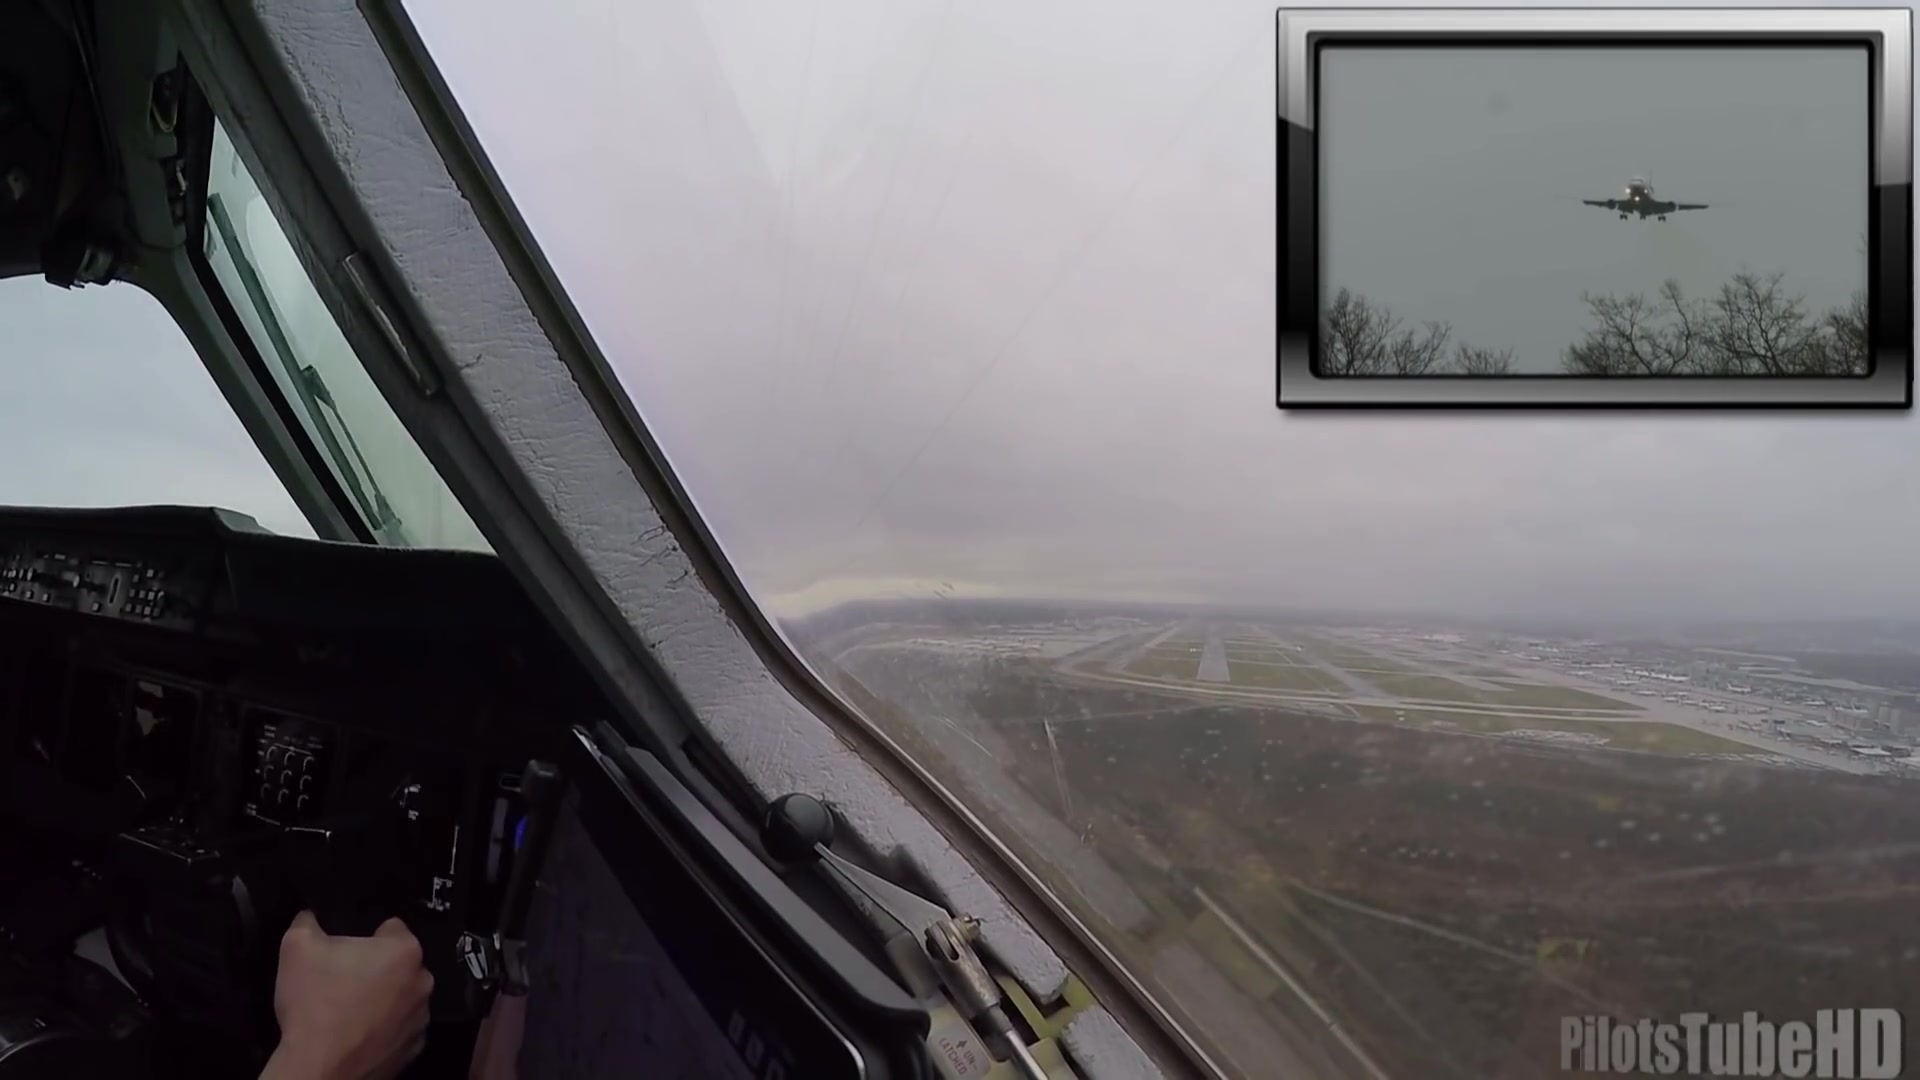runway: (1193, 640, 1230, 683)
